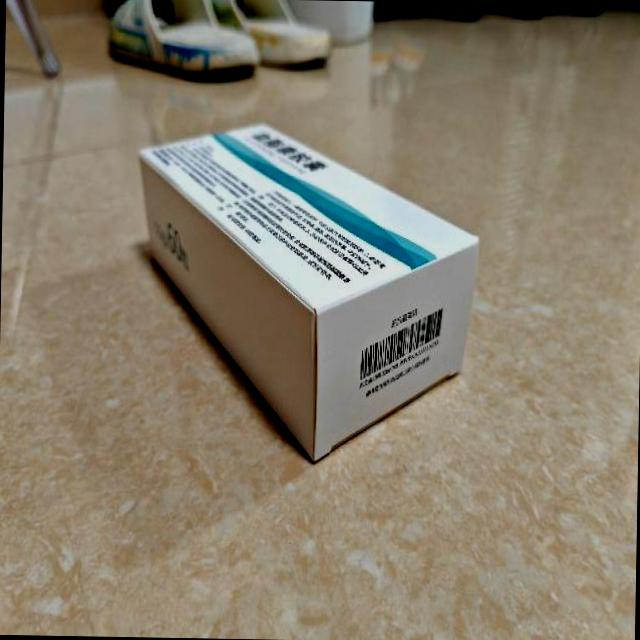box: (134, 119, 480, 468)
